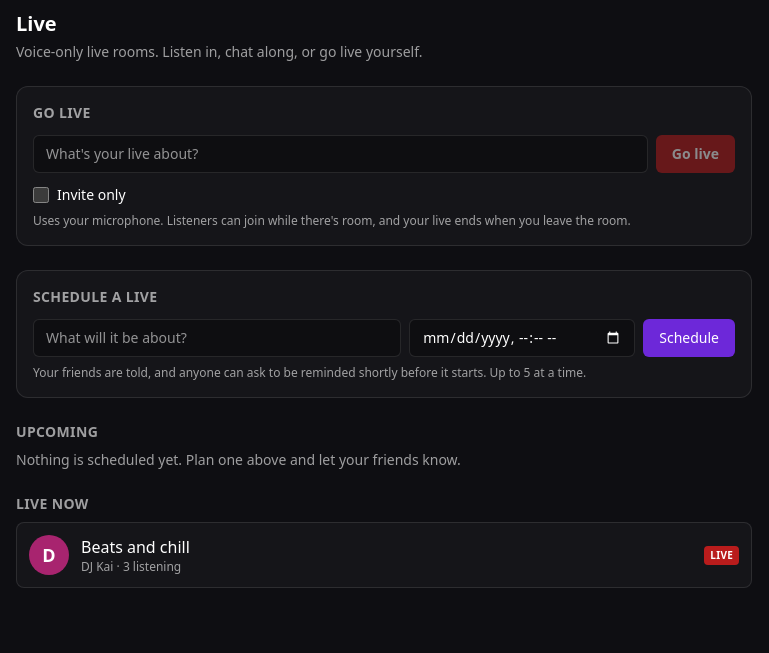
Test case: LivePage: going live › explains a blocked microphone and doesn't create a live
The width and height of the screenshot is (769, 653).
Type "My first live" into the field named "Live title".
click(340, 154); type("My first live")  # box [33, 135, 648, 173]
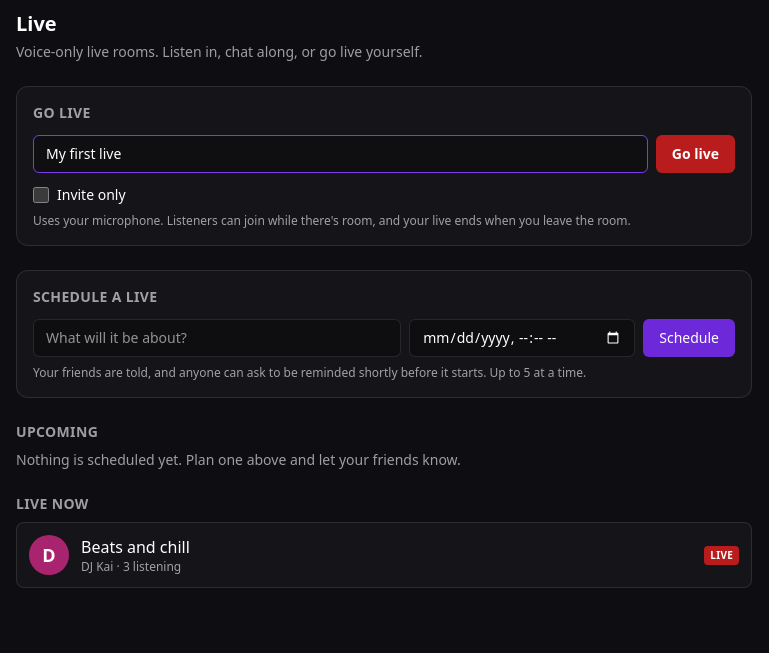
Click the button "Go live".
click(695, 154)  # box [656, 135, 735, 173]
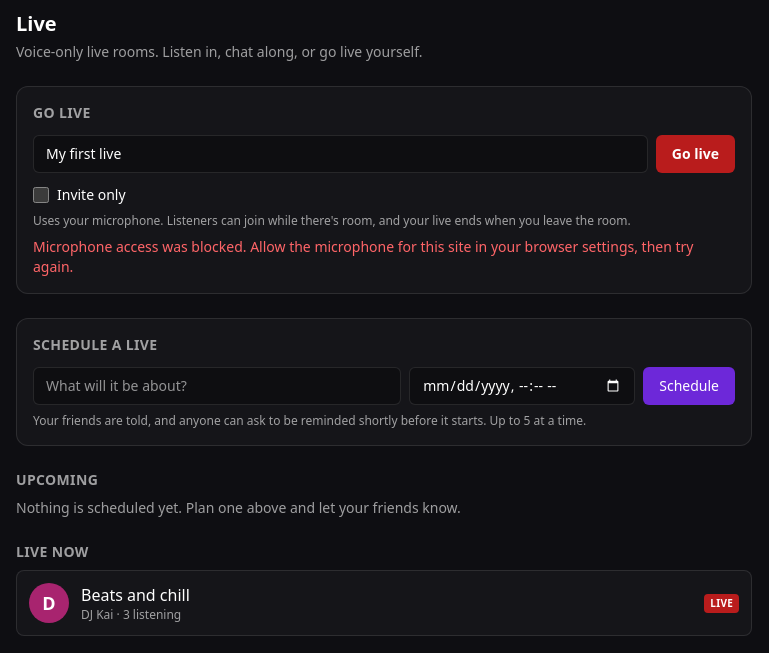
Expected: the button "Go live" is enabled, [656, 135, 735, 173]
Expected: the message shows "Microphone access was blocked", [33, 237, 694, 276]
